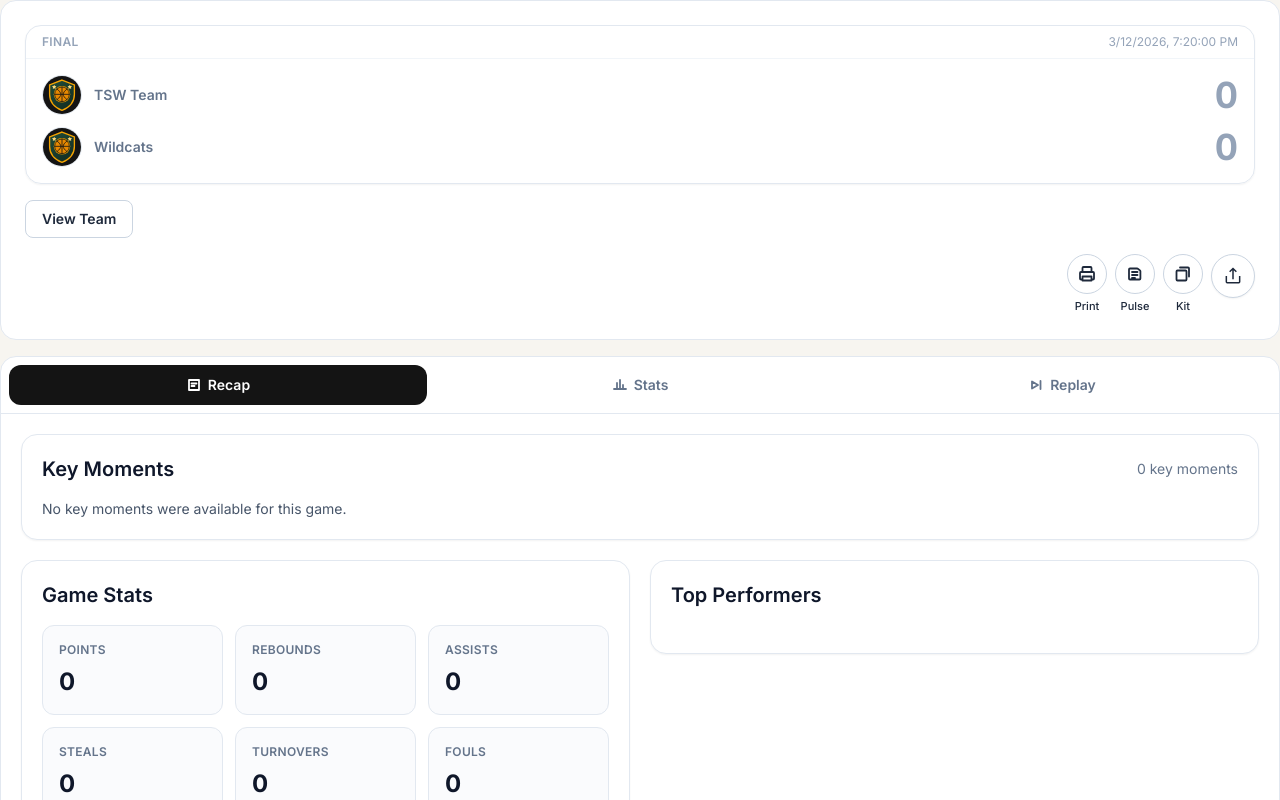
Test: GameDetailPage › shows replay to free teams
The image size is (1280, 800).
Click the tab "Replay" at coordinates (1062, 384), box [853,364,1271,404]
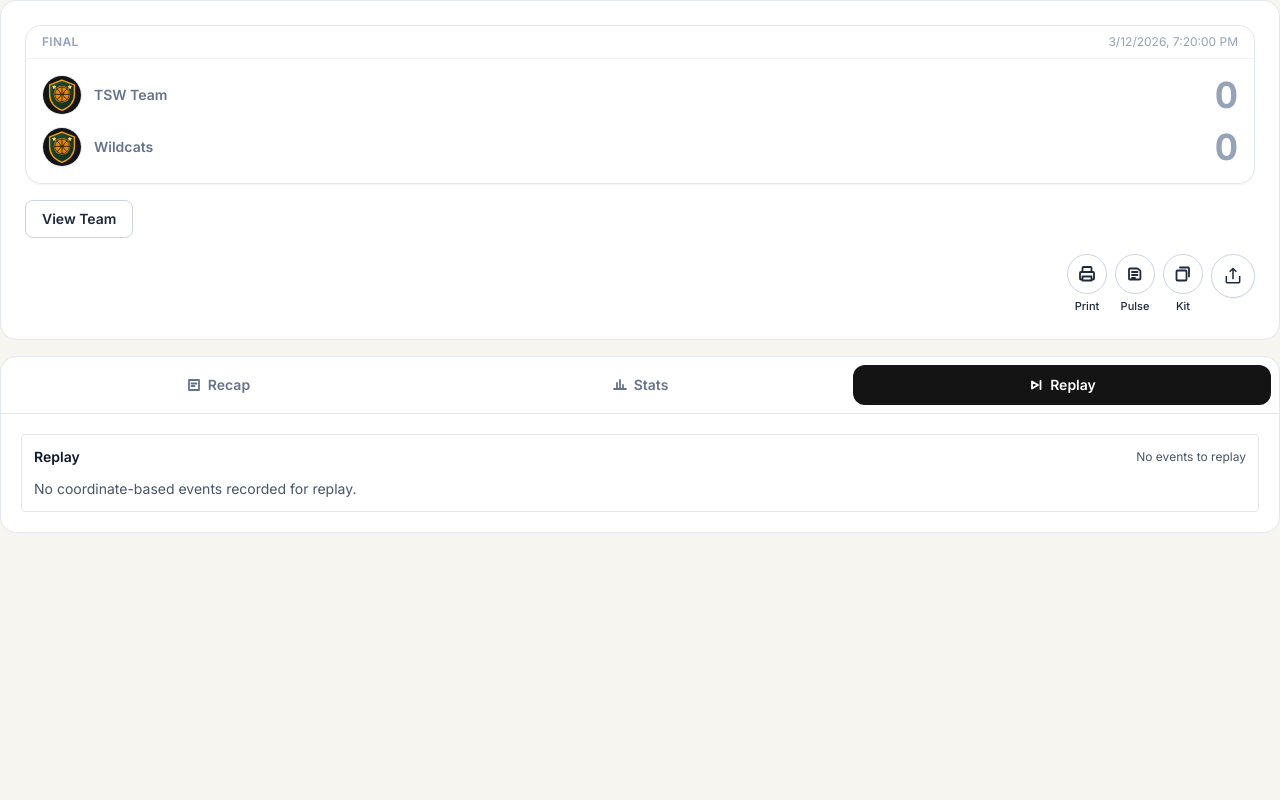
Result: the text "No coordinate-based events recorded for replay." is shown at [34,480,356,496]
